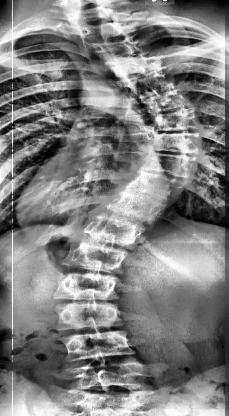Vertebrae: (68, 362, 144, 394), (57, 269, 123, 305), (108, 188, 166, 228), (62, 332, 130, 366), (66, 242, 130, 278), (54, 301, 119, 335), (128, 166, 189, 202), (84, 214, 142, 248), (144, 150, 200, 180), (150, 130, 206, 160), (144, 83, 194, 114), (132, 70, 176, 100), (152, 107, 202, 133), (80, 21, 130, 47), (110, 55, 158, 81), (98, 40, 142, 62)
